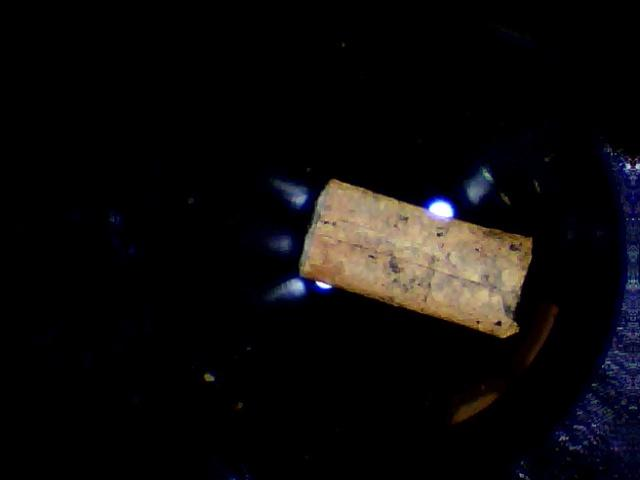megot: (294, 168, 538, 344)
